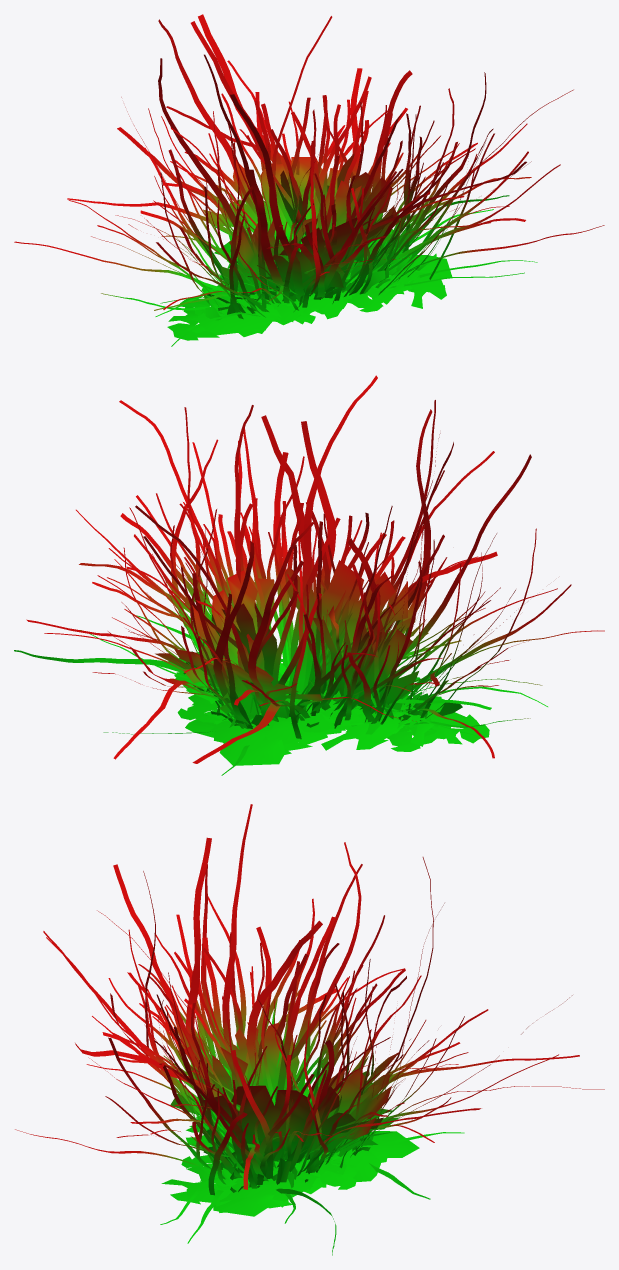
File: Var2_LOD0.fbx
3 renders of one model, top to bottom at view 1: azimuth 30°, elevation 25°; view 2: azimuth 150°, elevation 25°; view 3: azimuth 270°, elevation 25°, orthographic. The views are drawn at different scales.
Visible parts, largest first — view 1: _xsbo_Var2_LOD0; view 2: _xsbo_Var2_LOD0; view 3: _xsbo_Var2_LOD0.
Boxes of the visible parts, x1,y1,x2,y2 form: _xsbo_Var2_LOD0: (14, 14, 604, 346); _xsbo_Var2_LOD0: (14, 375, 604, 775); _xsbo_Var2_LOD0: (15, 804, 604, 1255).
Bounding box in the file's own units: 139 × 77.4 × 143.
